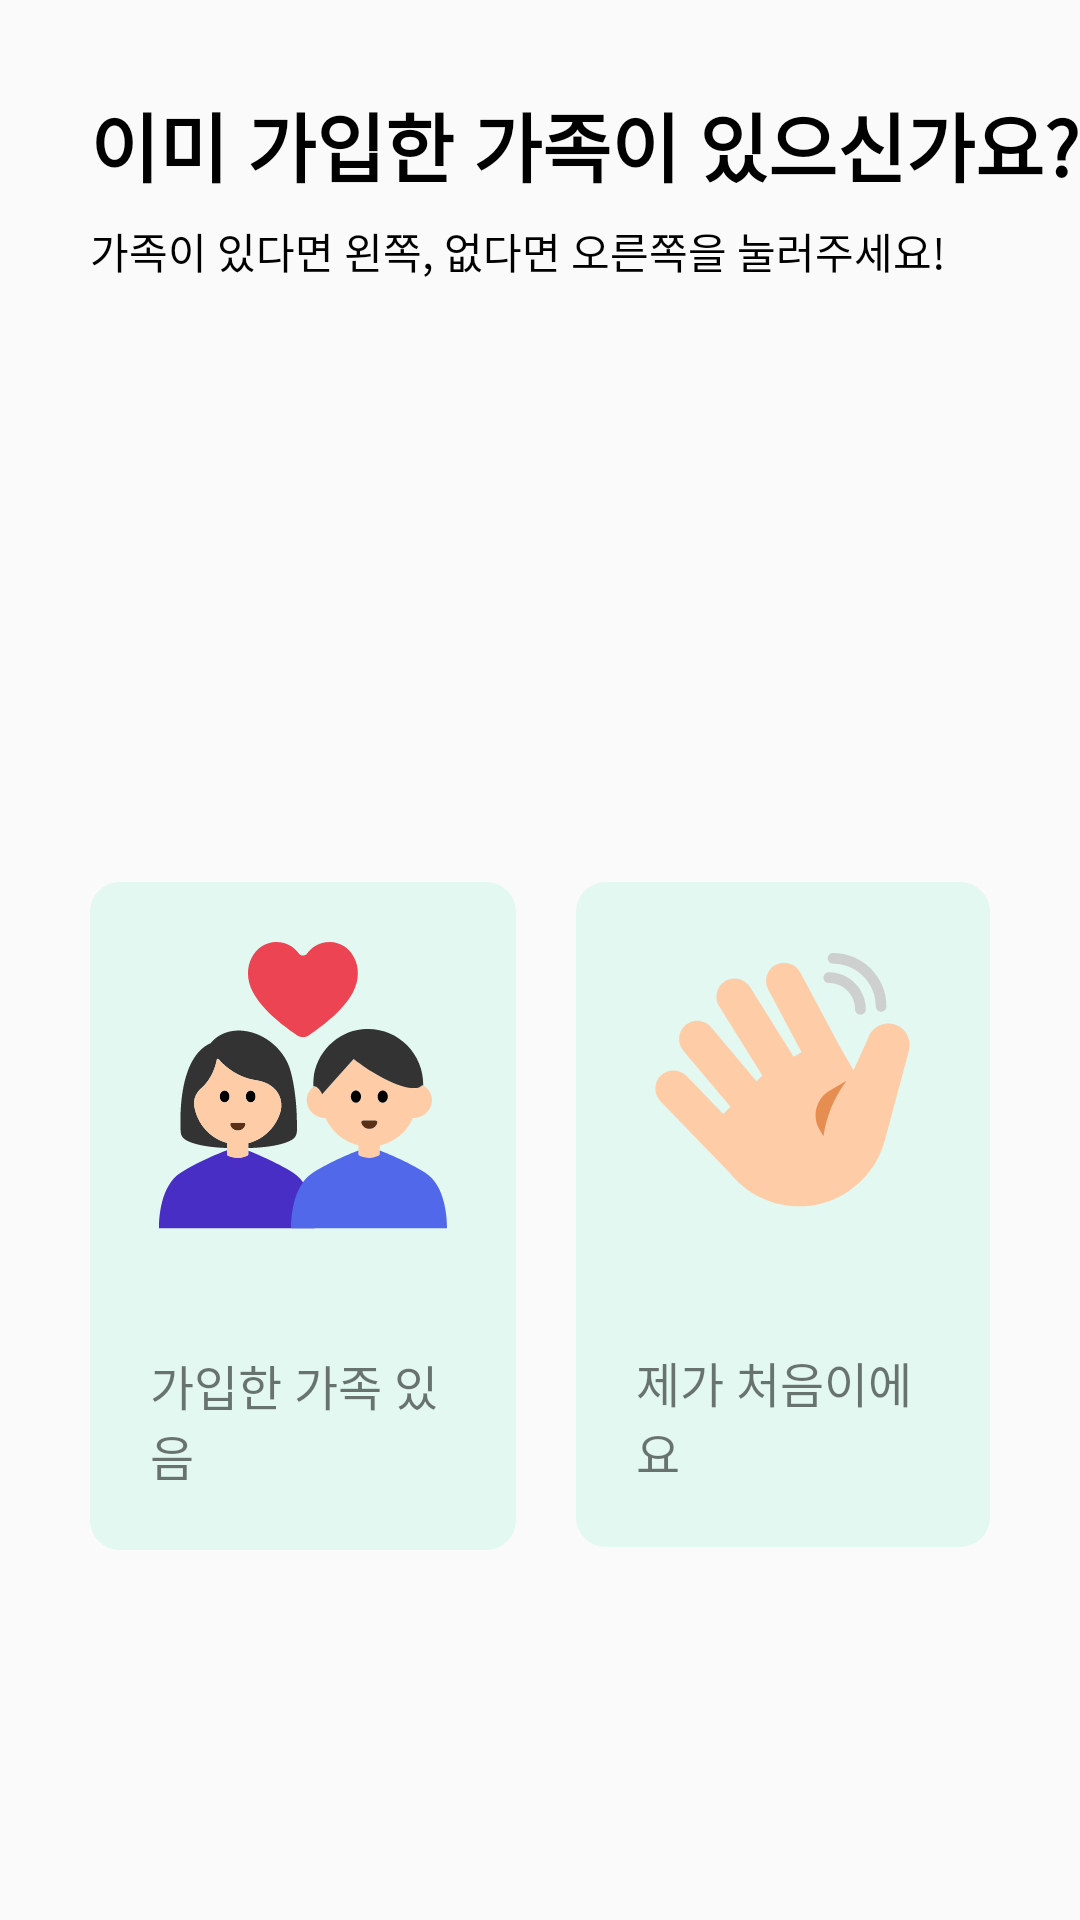

Named icons in this screenshot (1080x1920) and their bounding boxes, (x1, y1, x2, y2):
family: (159, 942, 447, 1229)
